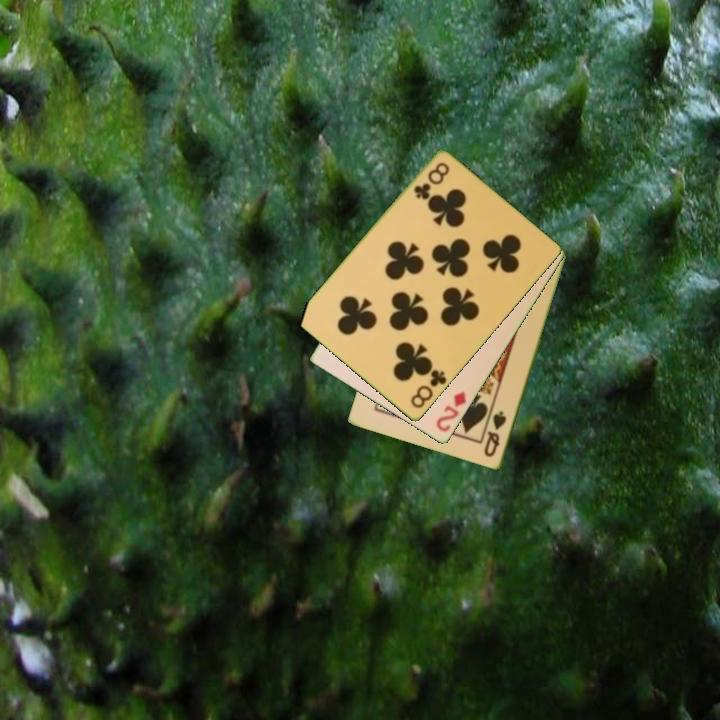2d: (432, 388, 469, 435)
8c: (407, 366, 450, 412), (410, 159, 453, 203)
Qs: (481, 408, 510, 460)
